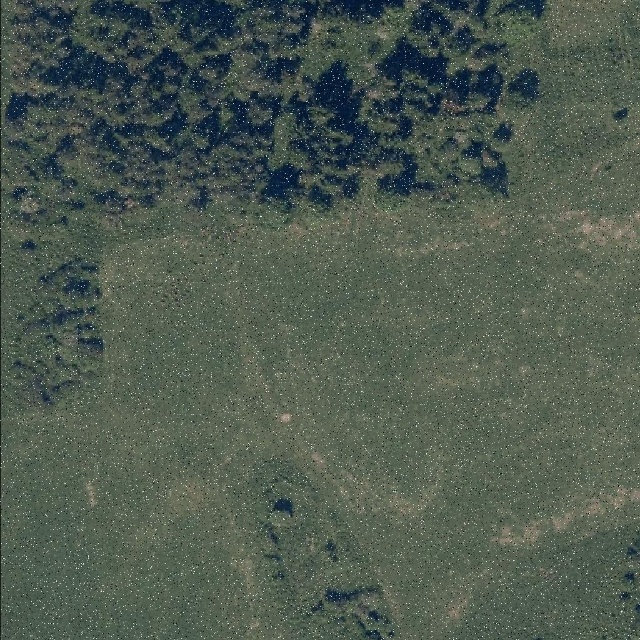vegetation: (0, 0, 542, 420), (251, 463, 394, 640)
